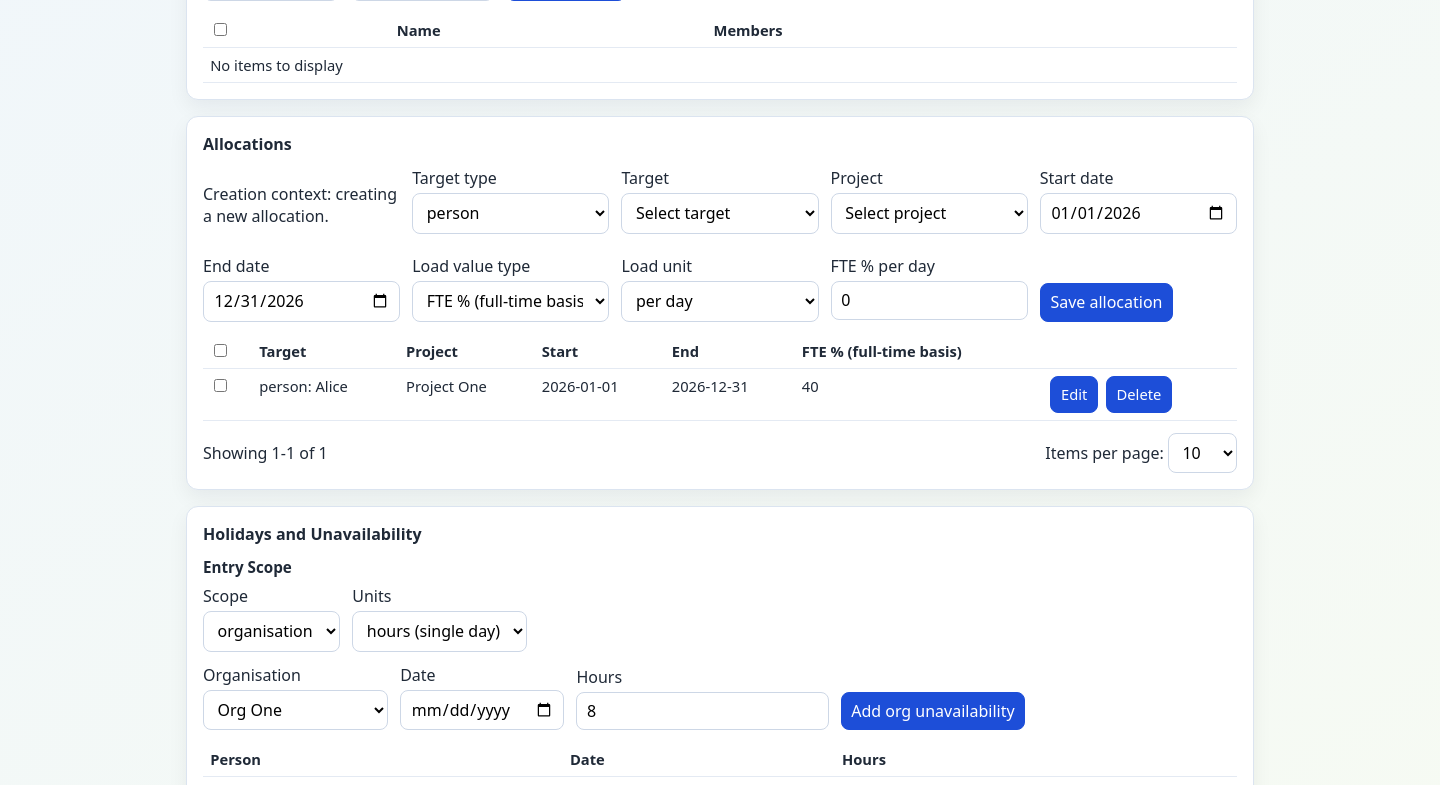
Test: App focused behaviors › switches allocation form between creation and edit context via row actions
(page scrolled)
Expected: the element "Allocations" is shown, [186,116,1254,490]
Expected: the text "person: Alice" is shown, [252,368,399,420]
Click the button "Edit" at (1074, 394), box [1050,376,1098,413]
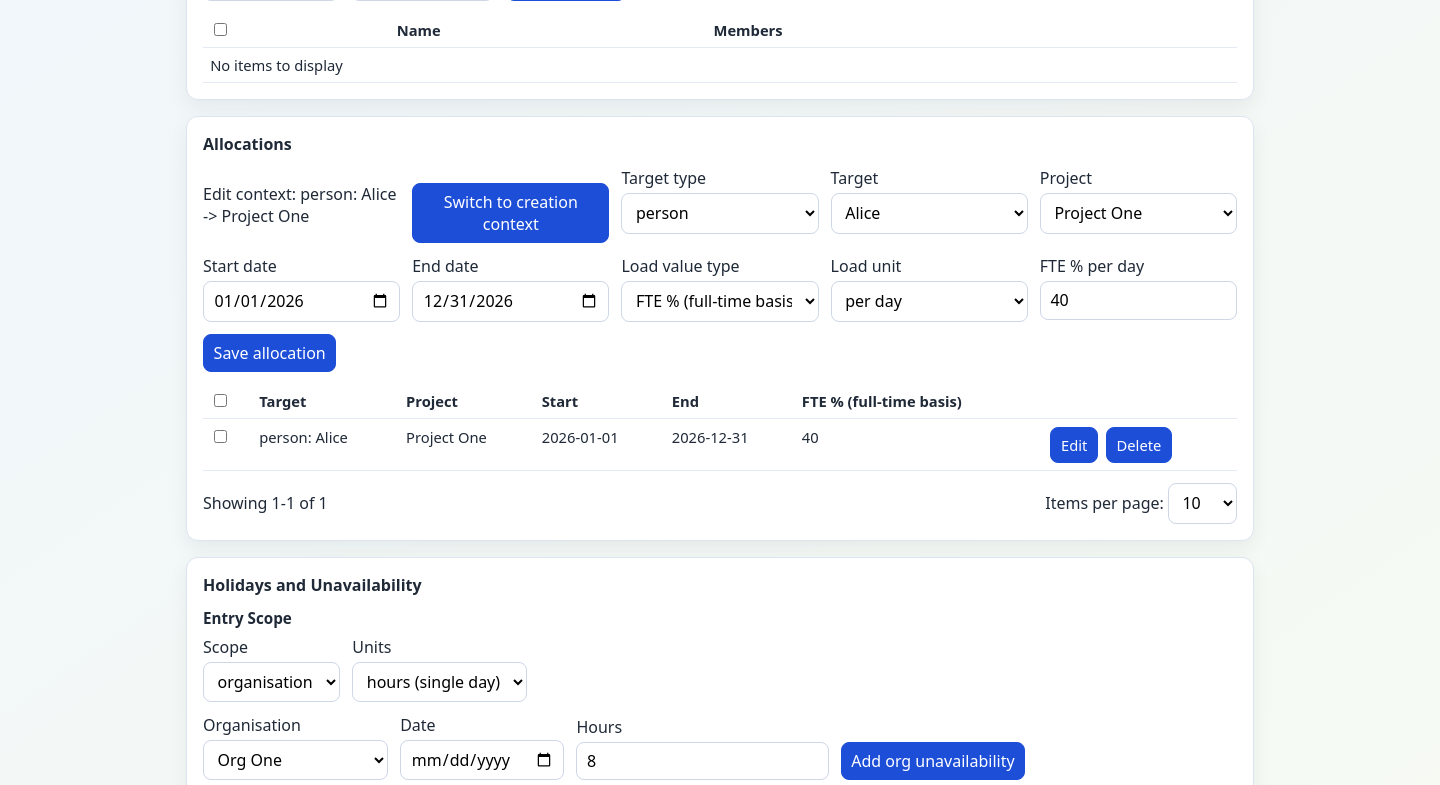
Expected: the text "Edit context: person: Alice -> Project One" is shown, [203,183,400,227]
Expected: the dropdown labelled "Target" shows "Alice", [831,193,1028,234]
Expected: the dropdown labelled "Project" shows "Project One", [1040,193,1237,234]
Click the button "Switch to creation context" at (511, 213), box [412,183,609,243]
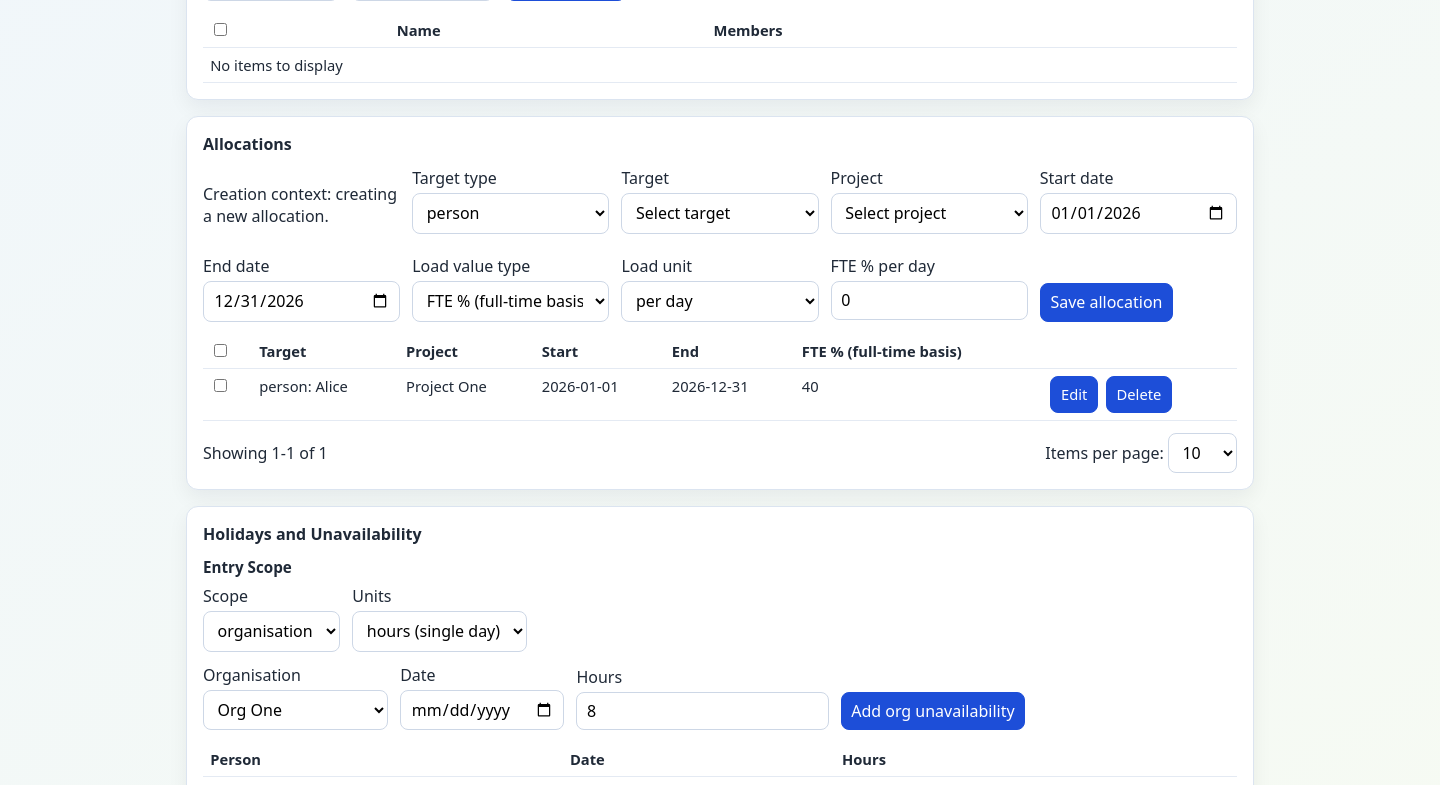
Expected: the text "Creation context: creating a new allocation." is shown, [203,183,400,227]
Expected: the dropdown labelled "Target" shows "Select target", [621,193,819,234]
